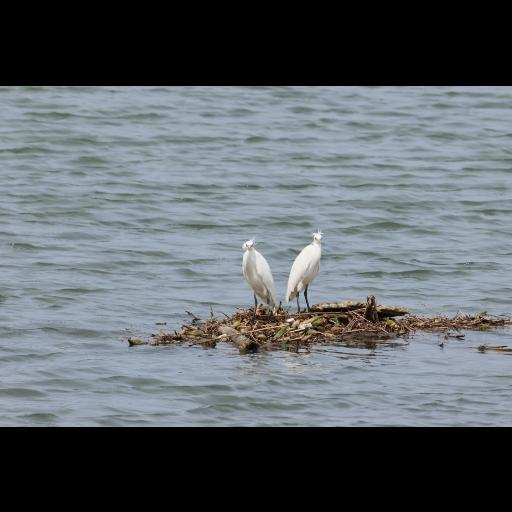chinese_egret: (286, 229, 324, 313), (242, 236, 276, 324)
